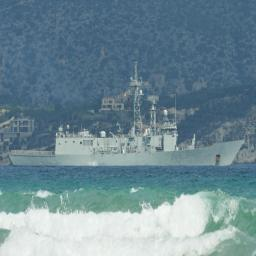Fragata: (8, 62, 248, 170)
